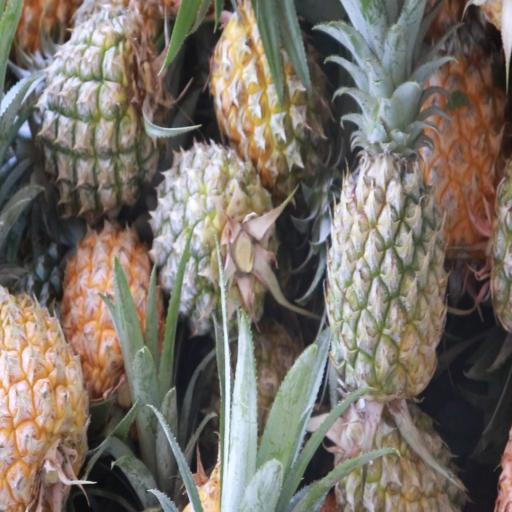------------------------------: (44, 16, 170, 207), (156, 143, 274, 328), (212, 0, 327, 189)
Pineapple - v8 v1: (0, 296, 91, 507), (62, 220, 164, 397), (418, 31, 502, 240)
